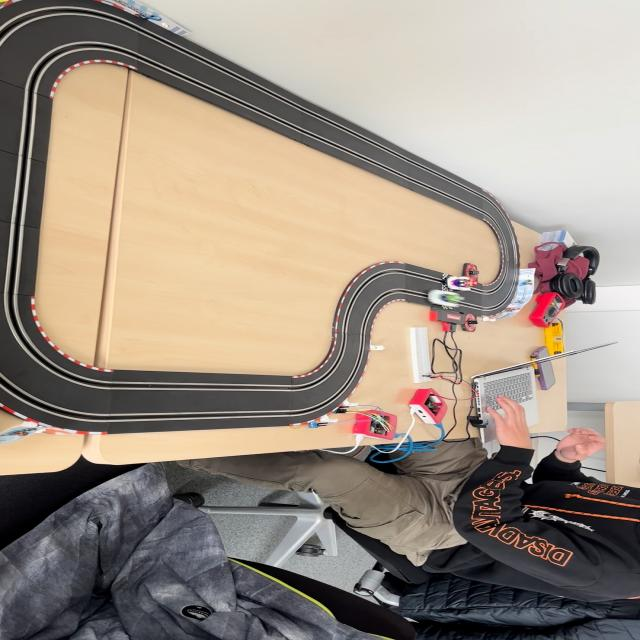mario: (444, 274, 477, 292)
yoshi: (425, 289, 467, 308)
